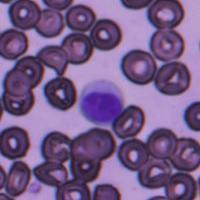L: (78, 80, 124, 125)
